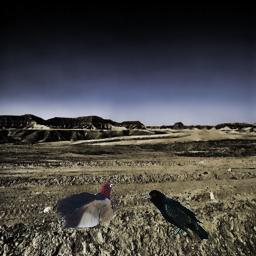Crow: (142, 190, 208, 243)
Woodpecker: (57, 180, 121, 229)
